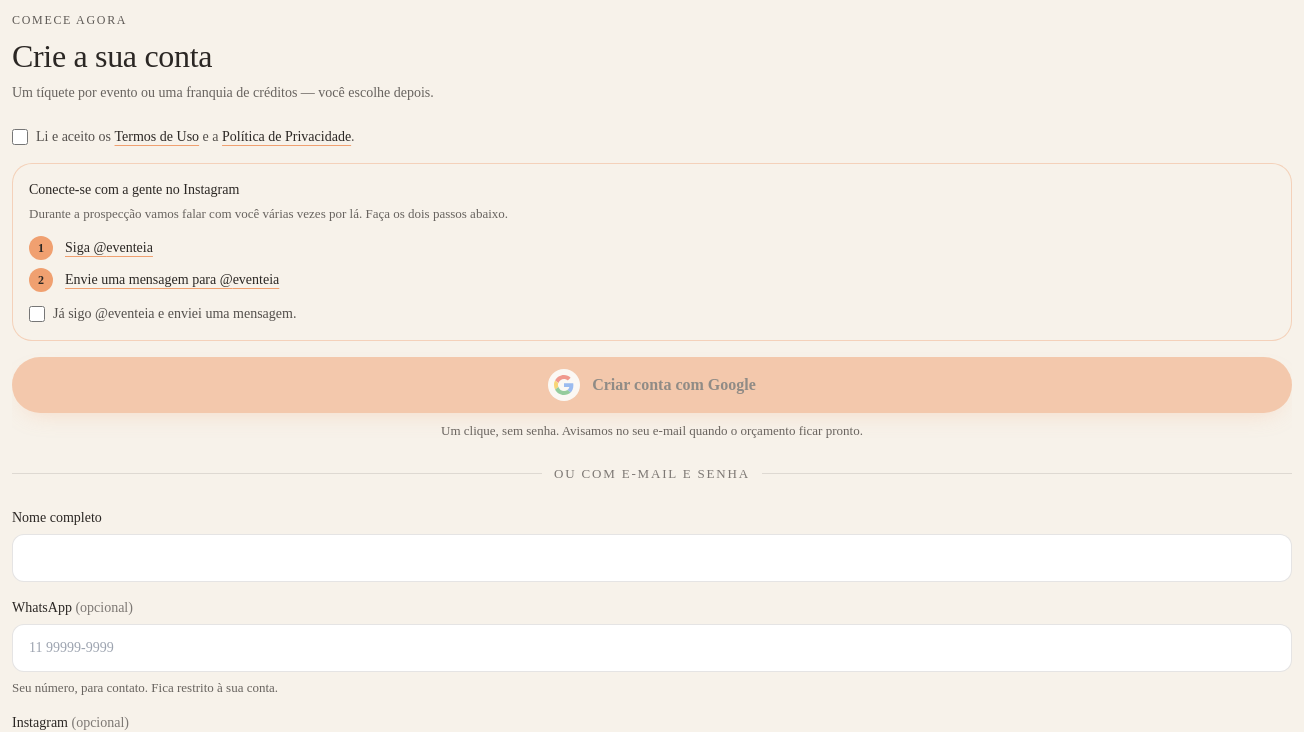
Test: AuthForm — passo do Instagram no cadastro › bloqueia a criação de conta até seguir + enviar mensagem
Expected: the button "Criar conta com Google" is disabled, [12,357,1292,413]
Click the checkbox labelled "Li e aceito os Termos de Uso e a Política de Privacidade ." at (20, 137), box [12,129,28,145]
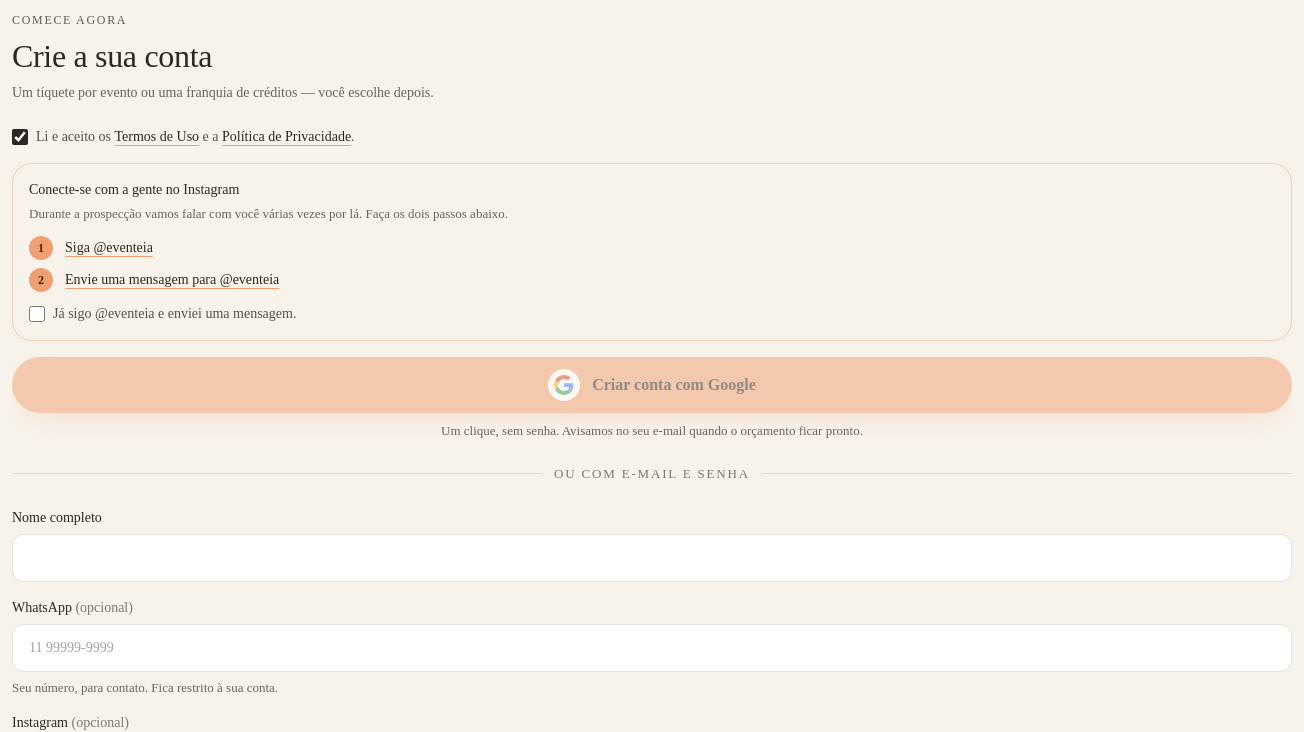
Click the checkbox labelled "Já sigo @eventeia e enviei uma mensagem." at (37, 314), box [29,306,45,322]
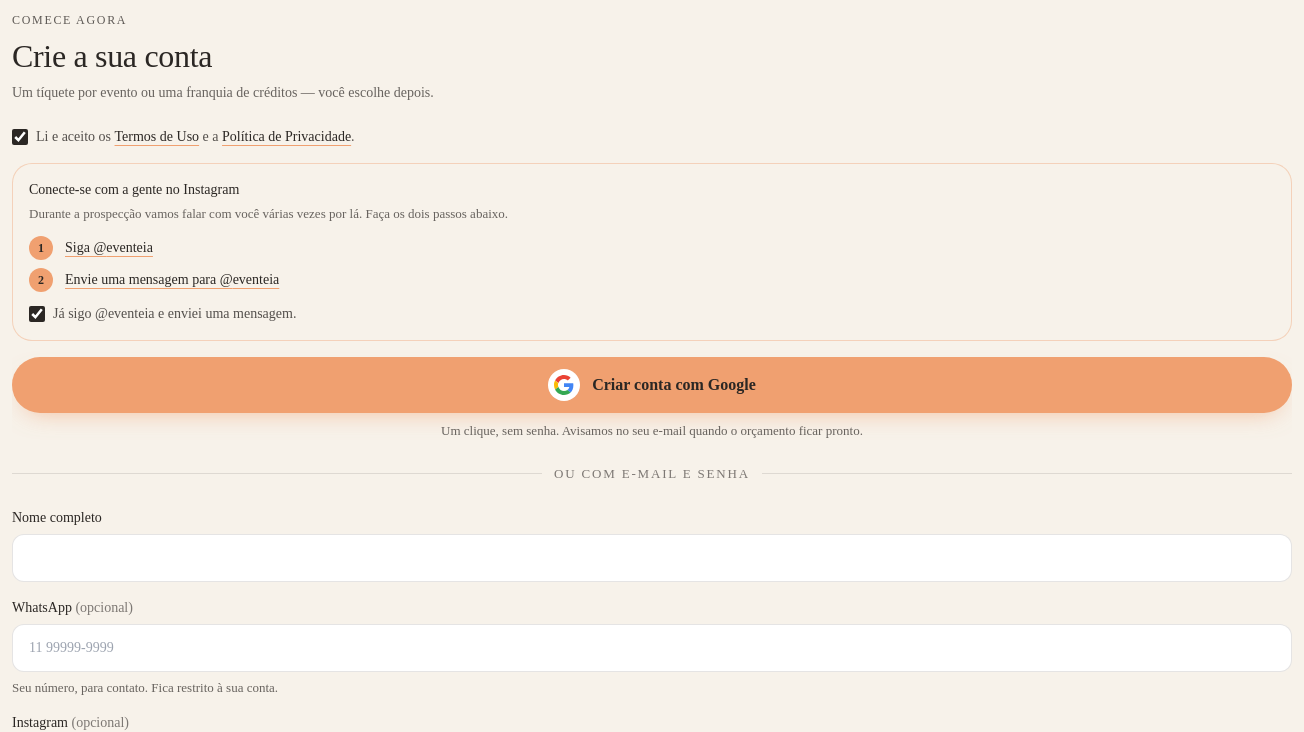
Expected: the button "Criar conta com Google" is enabled, [12,357,1292,413]
